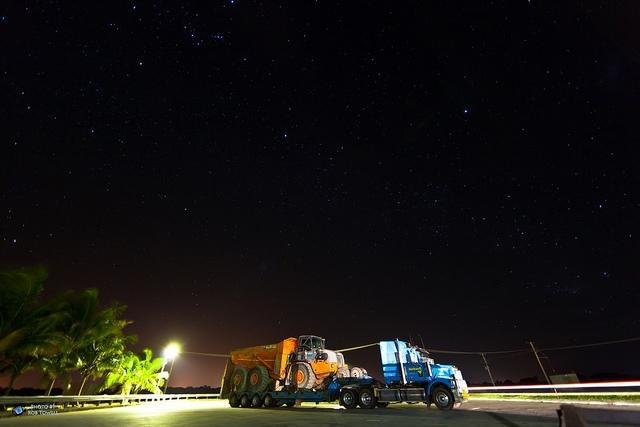truck: (220, 336, 470, 410)
